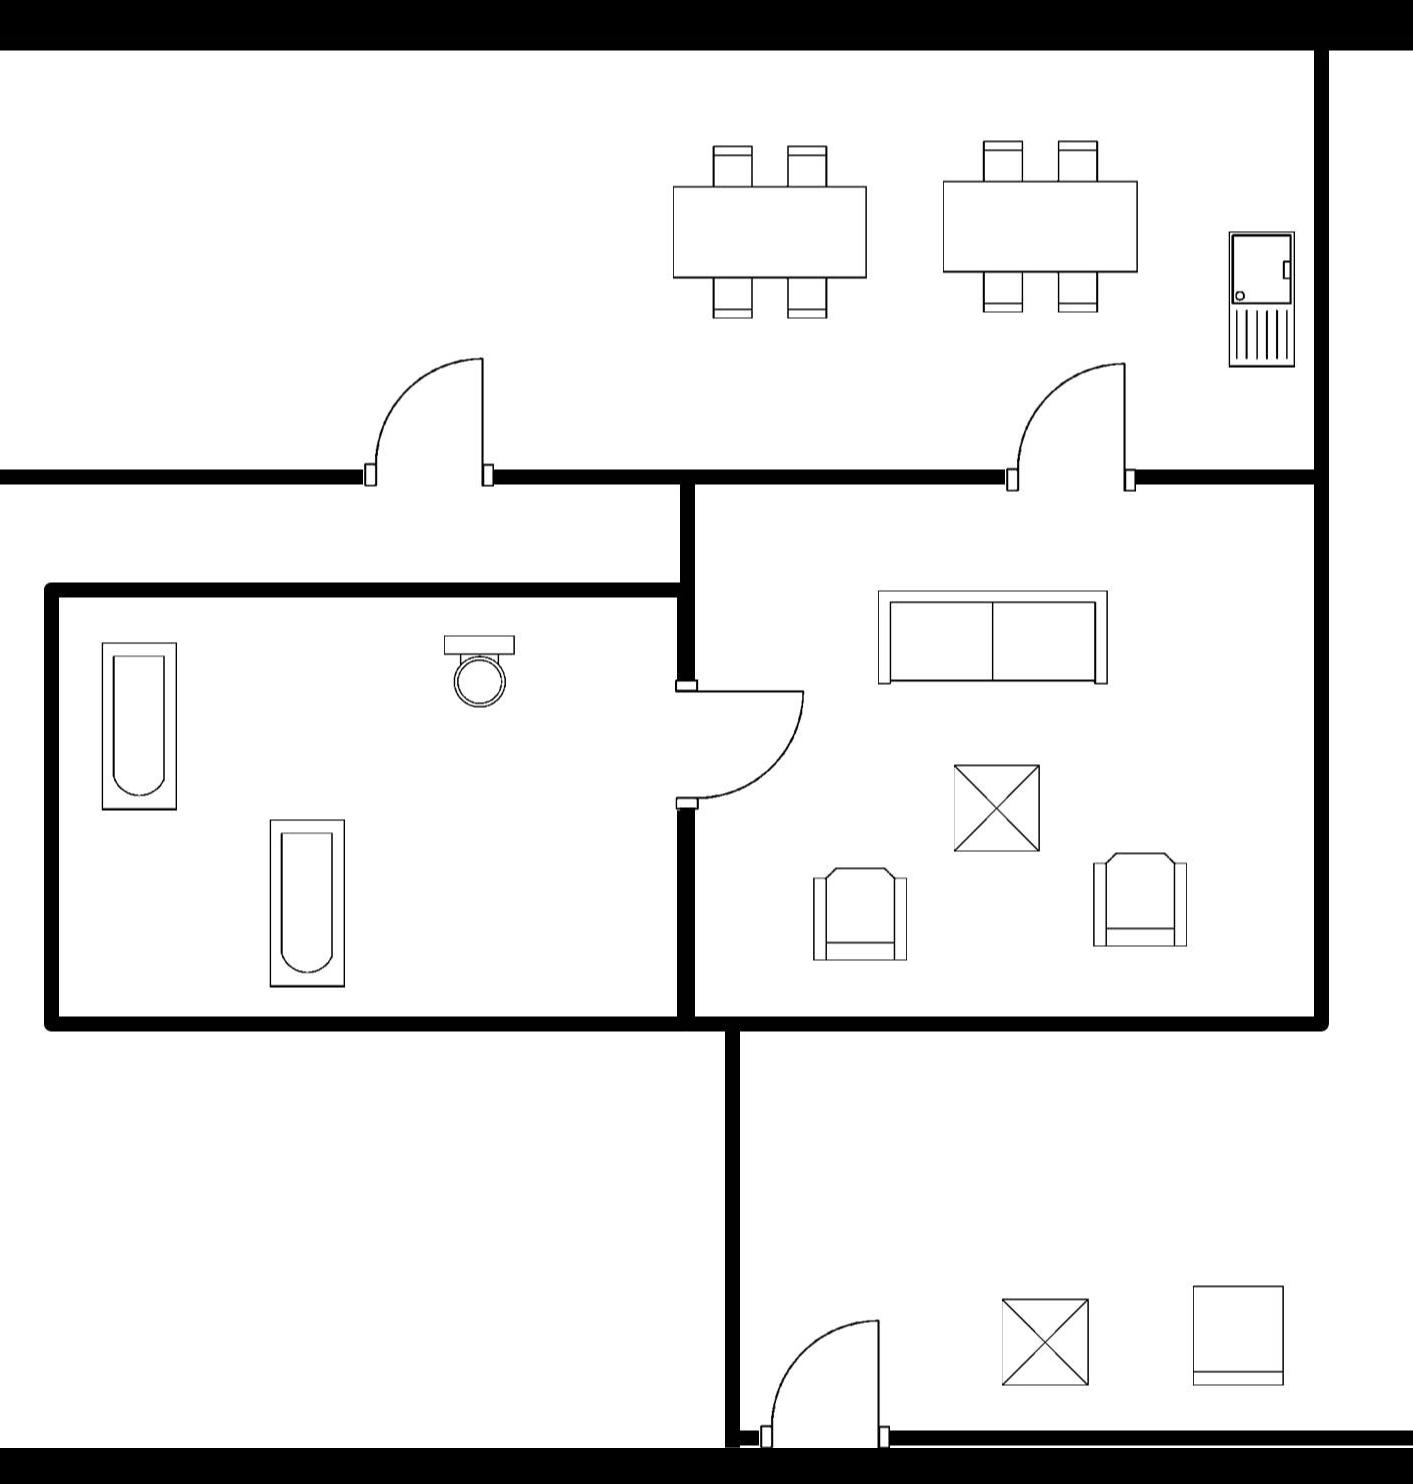dining_table: (925, 131, 1152, 326), (655, 138, 884, 330)
sink: (1210, 219, 1303, 380)
sofa: (862, 580, 1117, 700)
toilet: (431, 628, 528, 722)
tub: (89, 625, 186, 827), (256, 810, 354, 1003)
